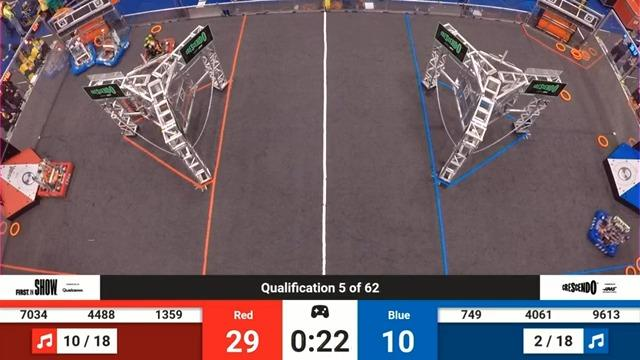robot: (583, 199, 630, 262), (32, 156, 77, 199), (59, 36, 98, 73), (92, 28, 126, 68), (135, 34, 181, 63), (127, 94, 138, 123)
